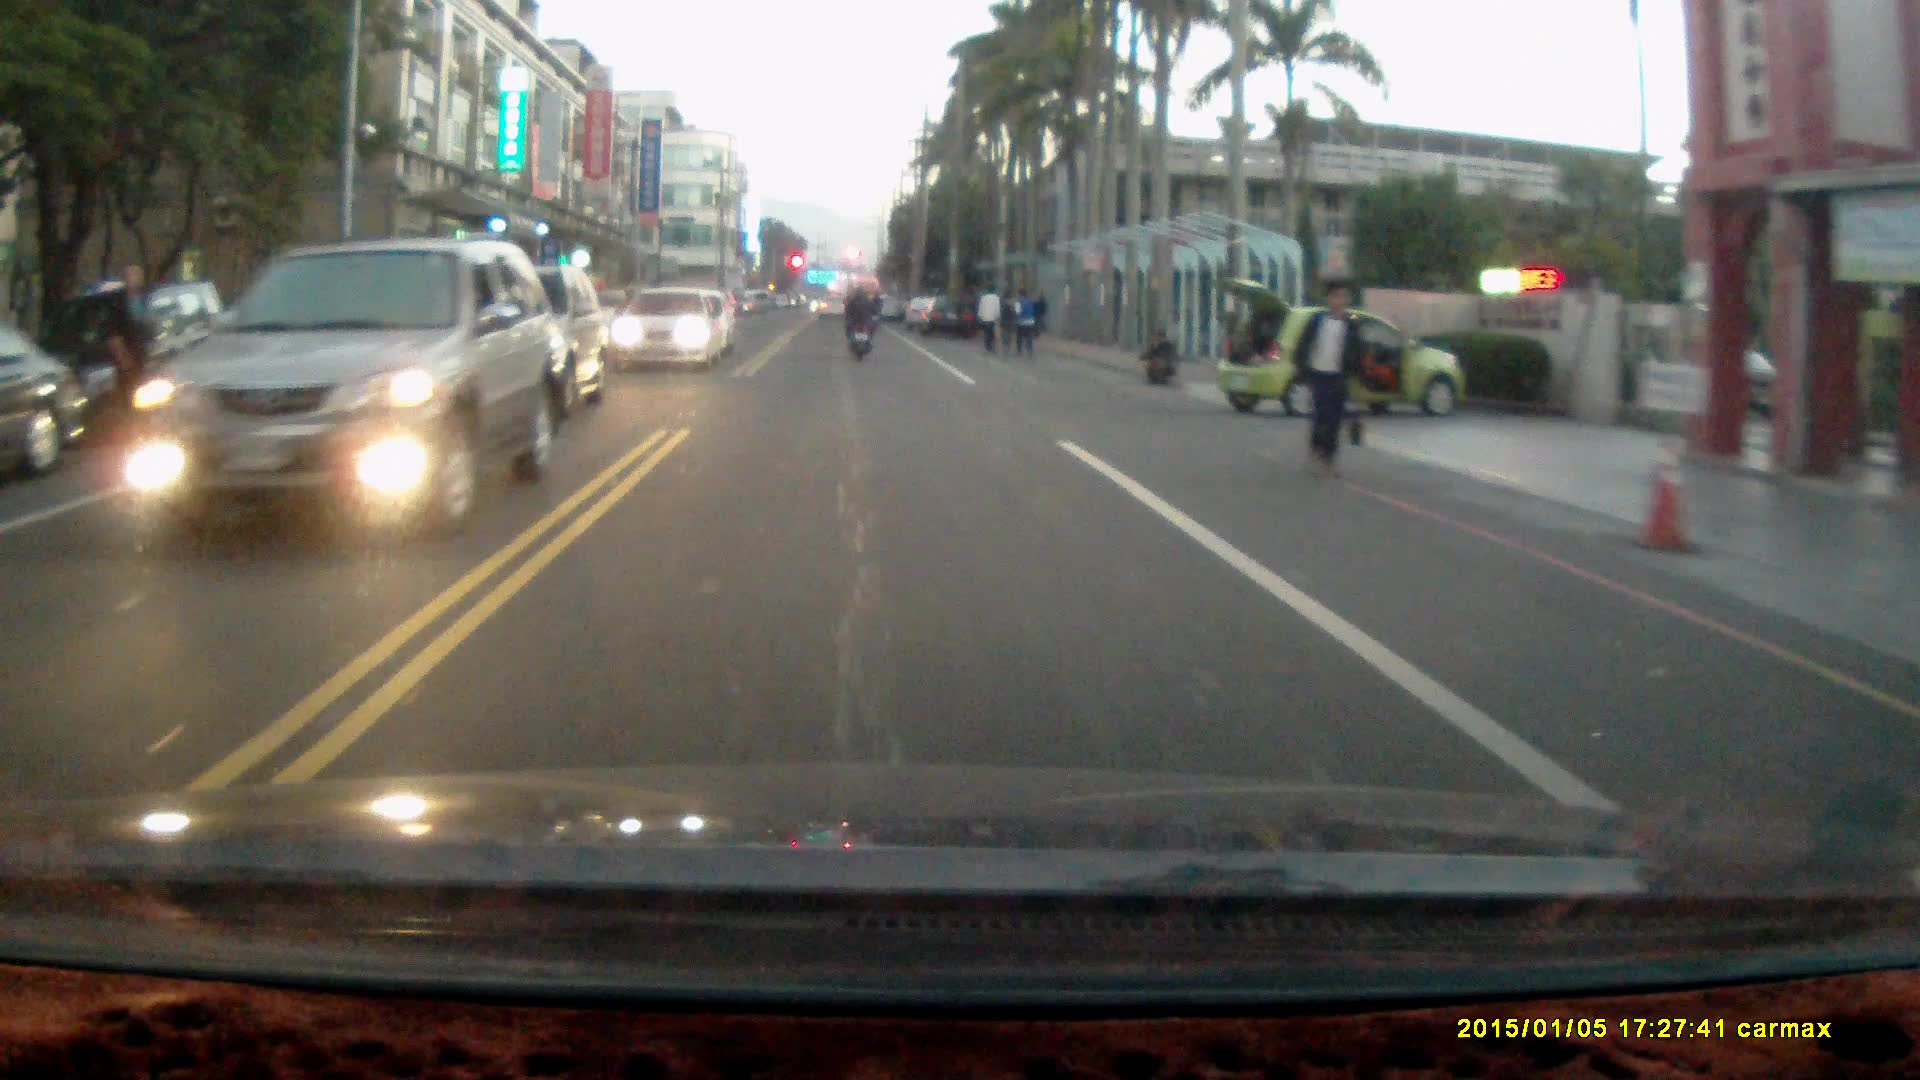pedestrian: (1290, 279, 1368, 488), (1139, 323, 1176, 385), (1013, 282, 1039, 362), (980, 285, 1004, 359), (996, 286, 1019, 355)
rider: (839, 283, 877, 361)
vehicle: (113, 237, 557, 541), (1211, 271, 1474, 418), (401, 261, 615, 422), (616, 284, 727, 369), (925, 294, 980, 339)
